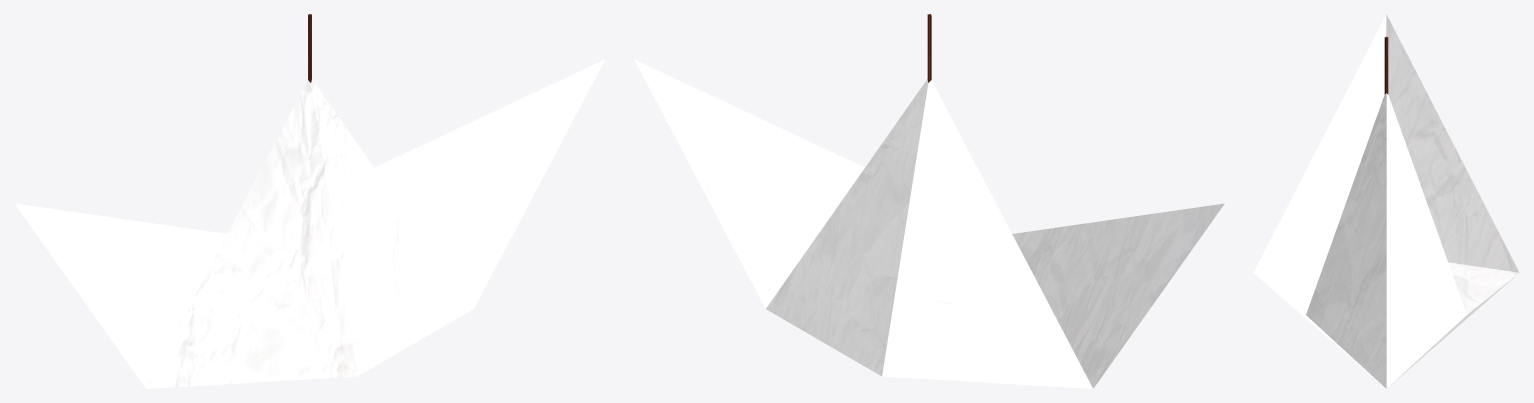
The model's file is boat2.glb.
The picture shows the model from 3 angles, left to right: view 1: azimuth 30°, elevation 25°; view 2: azimuth 150°, elevation 25°; view 3: azimuth 270°, elevation 25°; orthographic projection. The views are drawn at different scales.
Parts seen in each view (by area): view 1: ship:Mesh; view 2: ship:Mesh; view 3: ship:Mesh, pCube1.
Part boxes in pixels (x1,y1,x2,y2): ship:Mesh: [14, 59, 605, 388]; ship:Mesh: [634, 59, 1224, 388]; ship:Mesh: [1253, 14, 1519, 388]; pCube1: [1384, 36, 1388, 94].
Size of the model in its own units: 0.9858 by 0.5327 by 0.4531.
2 materials, 2 textured.
